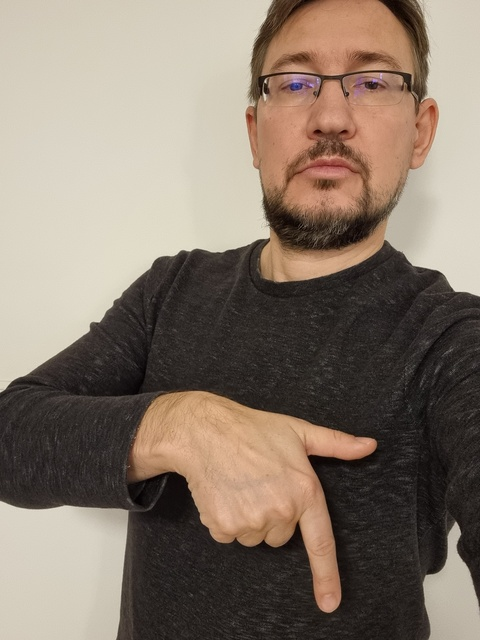GestDown: (210, 419, 377, 612)
